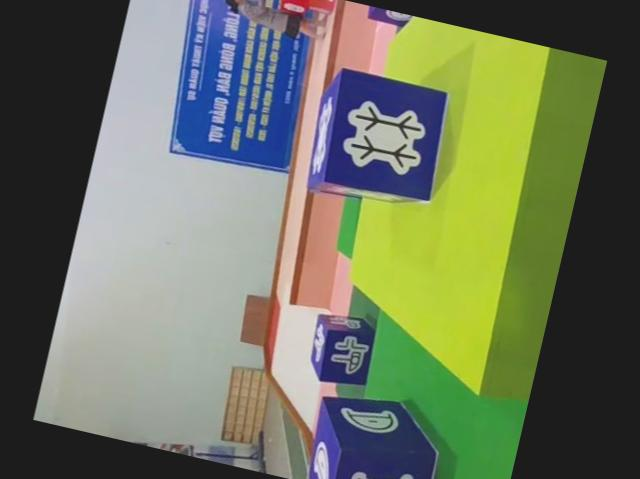R2 Real Blue: (302, 61, 459, 216), (303, 385, 451, 479), (303, 306, 381, 390)
